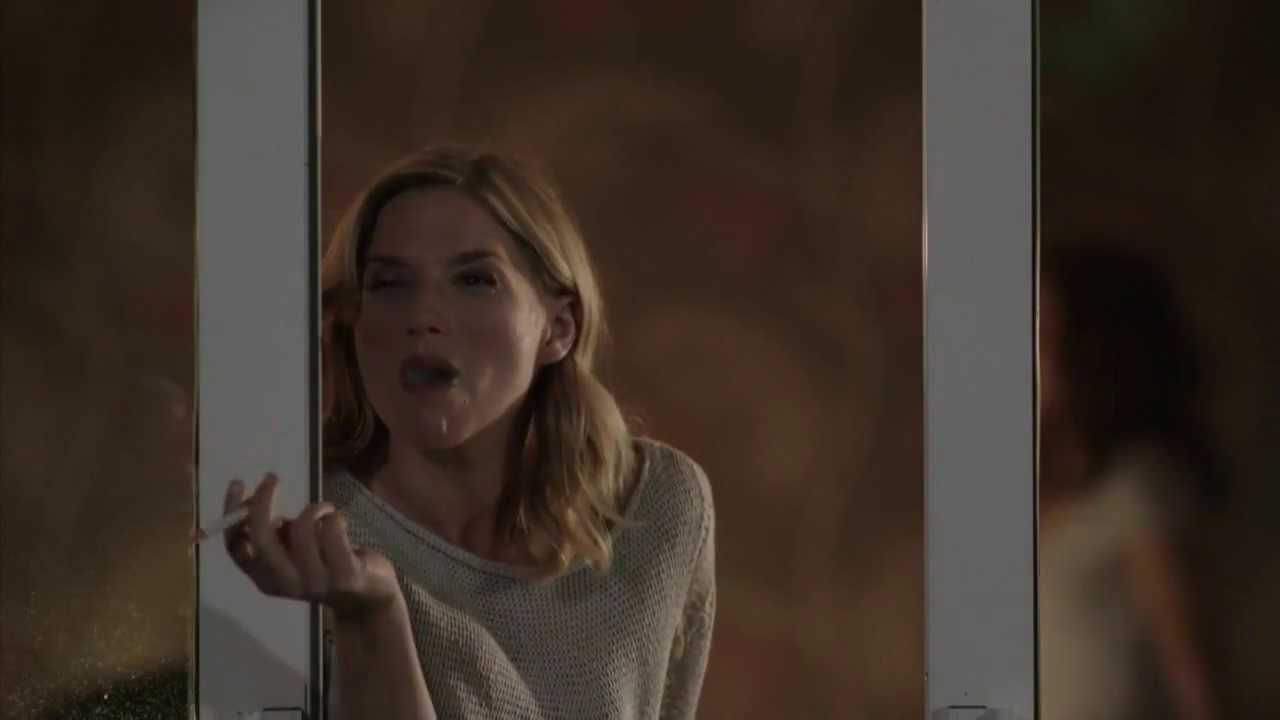cigarette: (181, 494, 265, 550)
